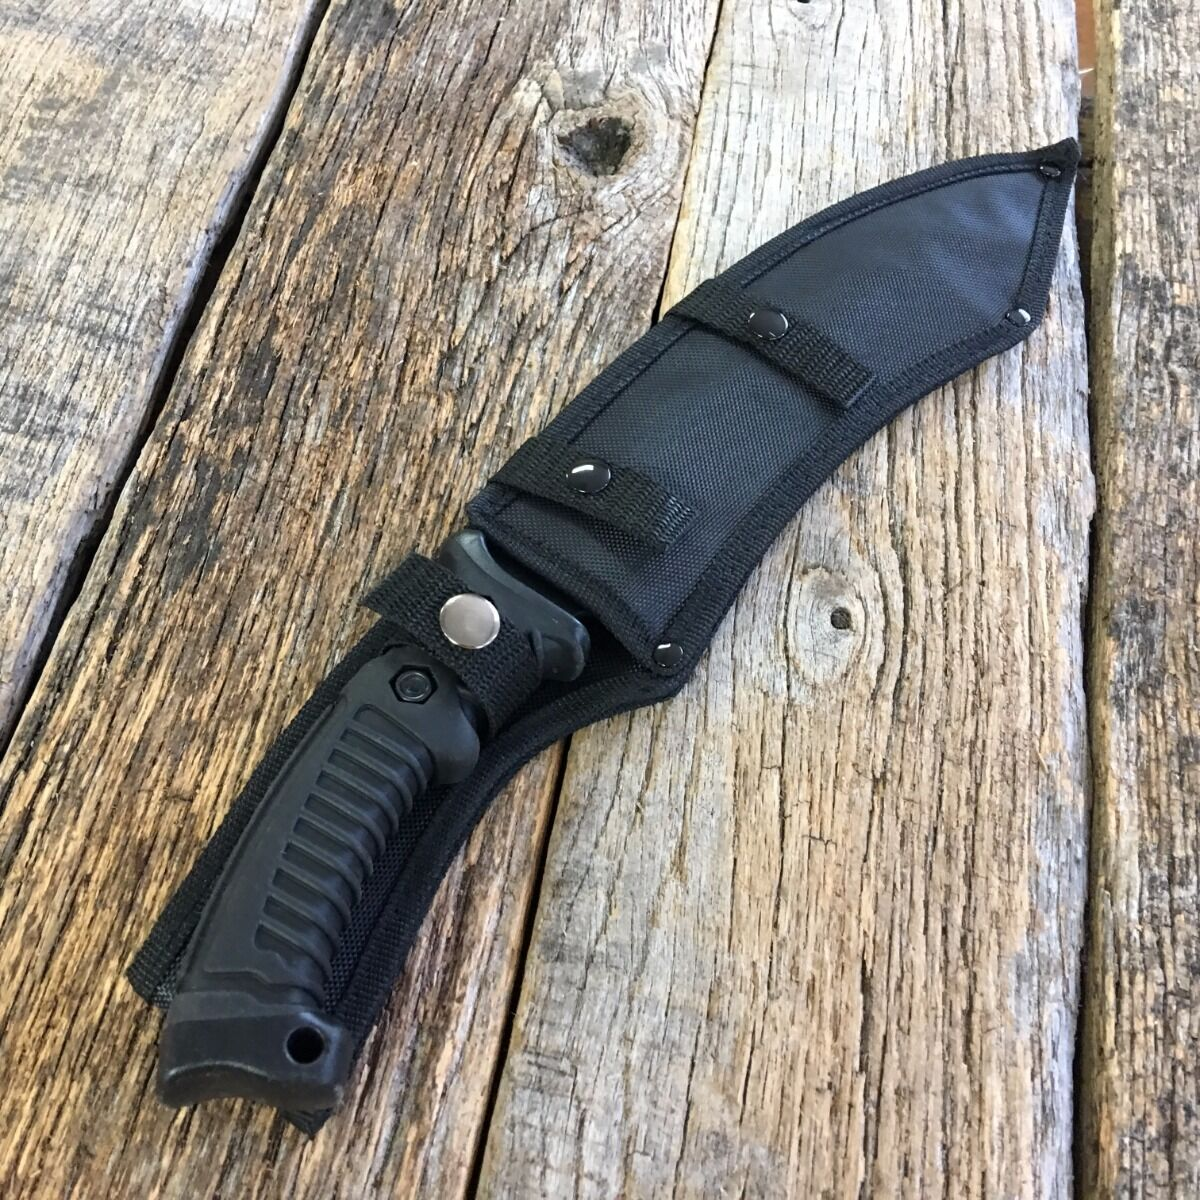knief: (127, 132, 1151, 1101)
